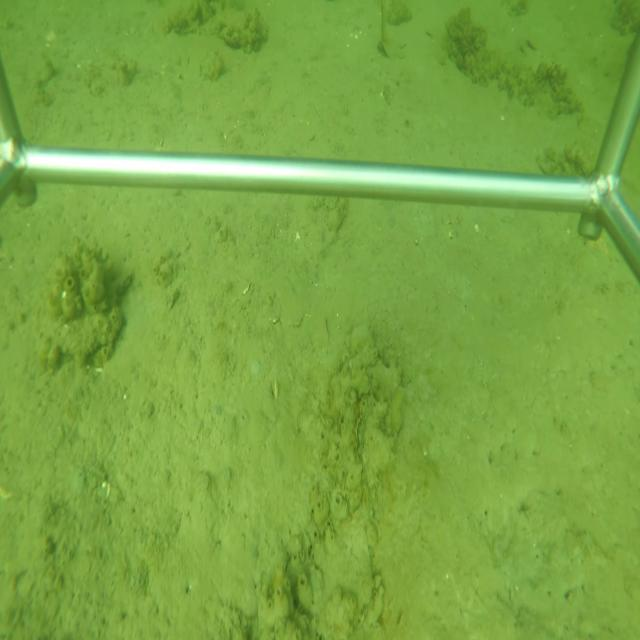Oyster-Closed: (352, 392, 372, 469)
